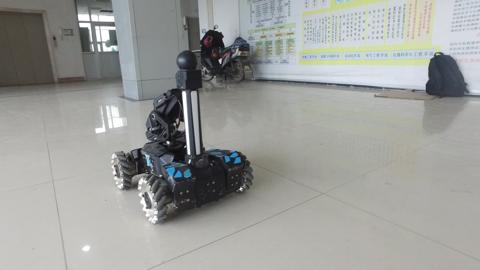bag: (420, 50, 471, 106)
chariot: (107, 47, 259, 223)
